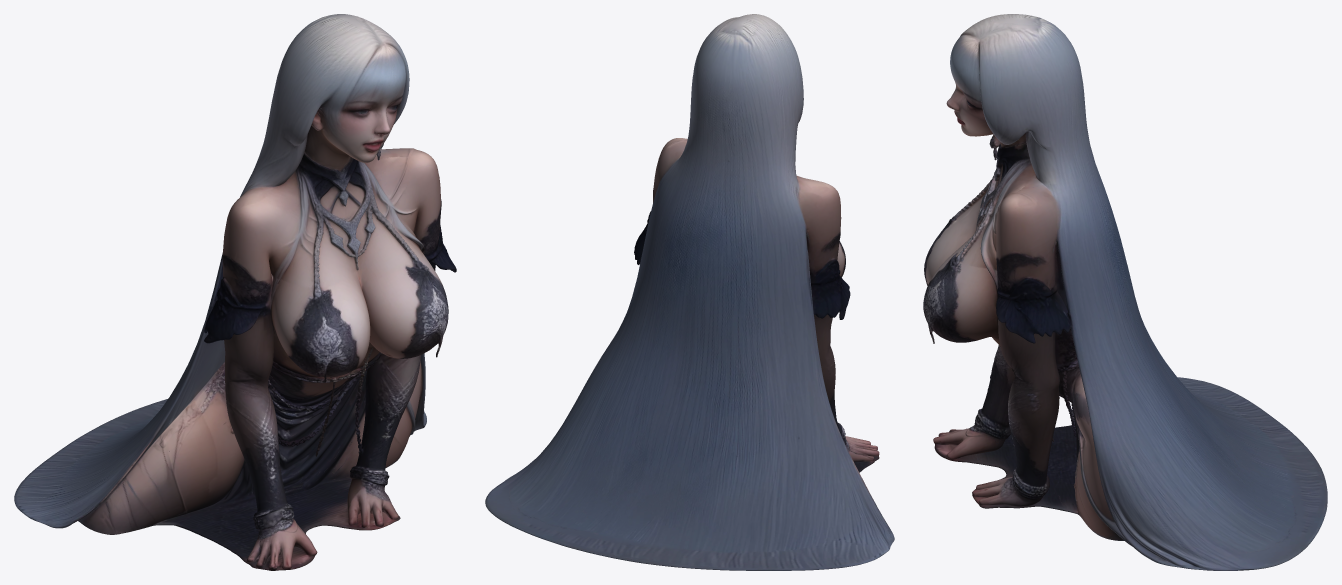
3 renders of one model, left to right at view 1: azimuth 30°, elevation 25°; view 2: azimuth 150°, elevation 25°; view 3: azimuth 270°, elevation 25°, orthographic. The views are drawn at different scales.
Parts seen in each view (by area): view 1: node_0; view 2: node_0; view 3: node_0.
Part boxes in pixels (bbox=[...]): node_0: bbox=[14, 14, 456, 570]; node_0: bbox=[485, 14, 894, 570]; node_0: bbox=[923, 14, 1327, 570].
Bounding box in the file's own units: 0.7403 × 0.8477 × 0.657.
Materials: 1 (1 with a texture image).
